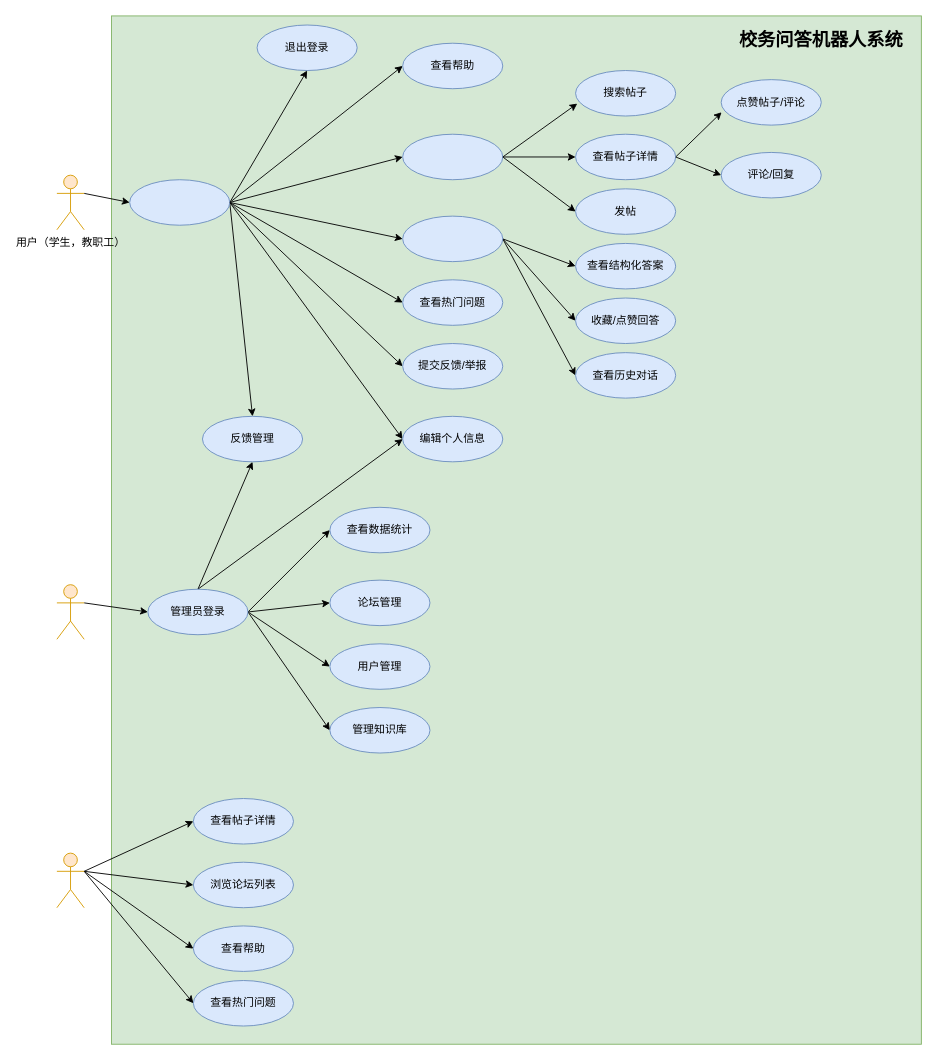
This 937x1060 diagram has some shape labels left out. Each missing label, with the box of its shape:
提问: (402, 215, 503, 262)
游客: (56, 852, 84, 908)
登录/注册: (129, 179, 230, 225)
管理员: (56, 584, 84, 639)
进入论坛: (402, 133, 503, 180)
